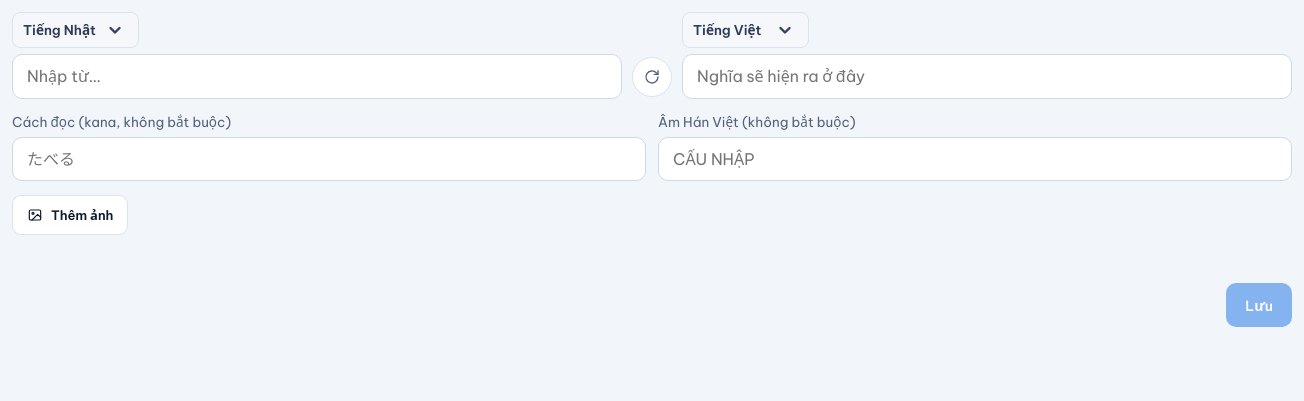
Test: CardEditor › fills the right box with the Vietnamese meaning once the Japanese word is typed
Type "食べる" into the text box labelled "từ".
click(317, 76); type("食べる")  # box [12,54,622,99]
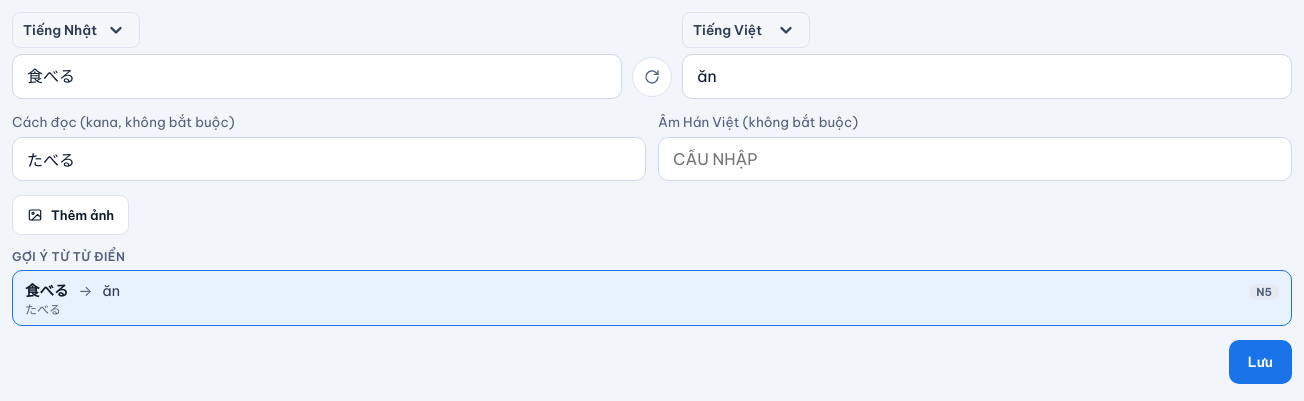
Now the text box named "Nghĩa" holds "ăn", box [682,54,1292,99]
Now the field with placeholder "たべる" holds "たべる", box [12,137,646,181]
